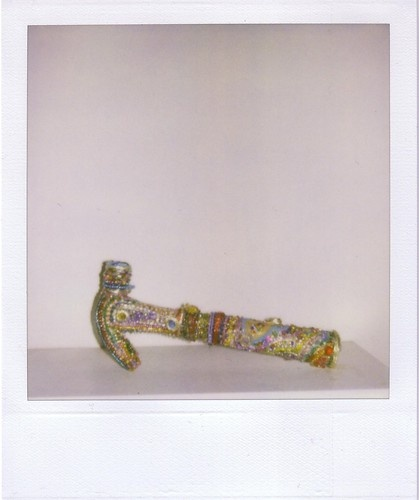hammer: (94, 259, 342, 375)
